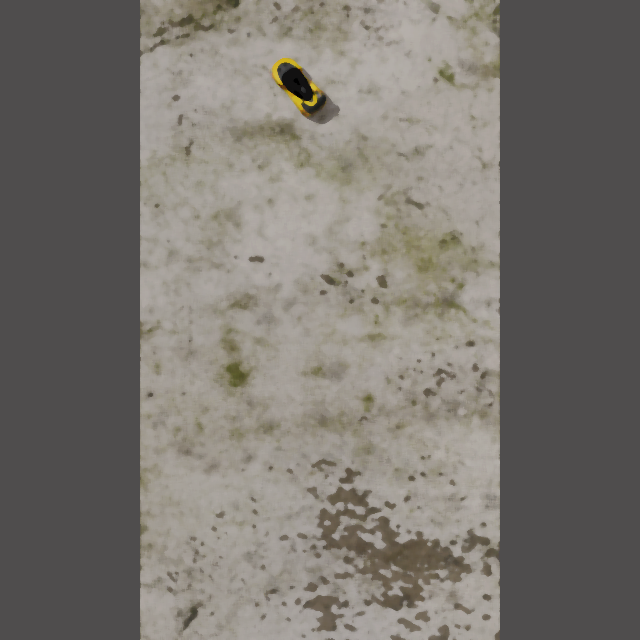car: (263, 46, 330, 123)
